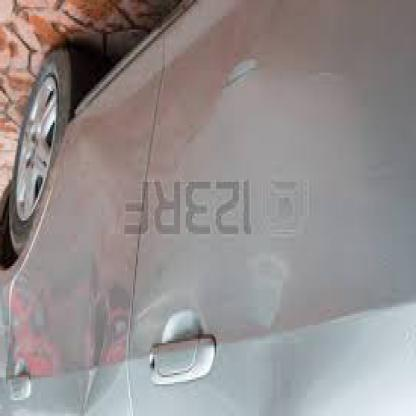dent: (75, 277, 122, 414), (242, 254, 294, 344), (214, 46, 260, 89)
